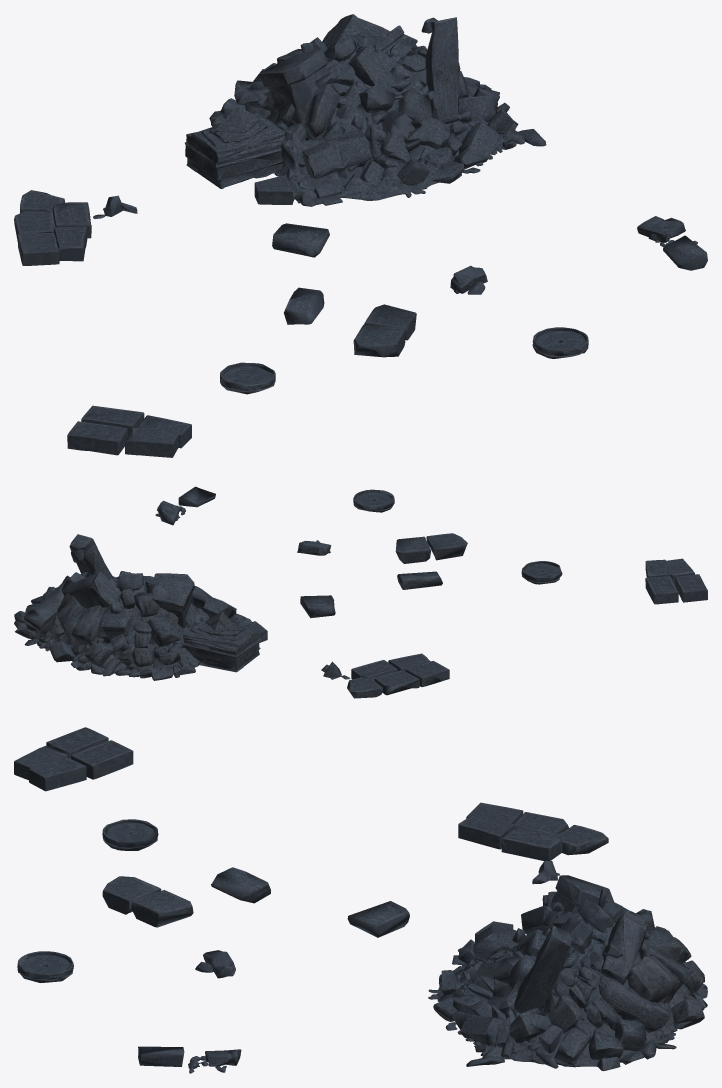
File: mx_map_ruins.glb
The picture shows the model from 3 angles, top to bottom: view 1: azimuth 30°, elevation 25°; view 2: azimuth 150°, elevation 25°; view 3: azimuth 270°, elevation 25°; orthographic projection. The views are drawn at different scales.
Size of the model in its own units: 1.89 by 0.2926 by 1.67.
1 material, 1 textured.
